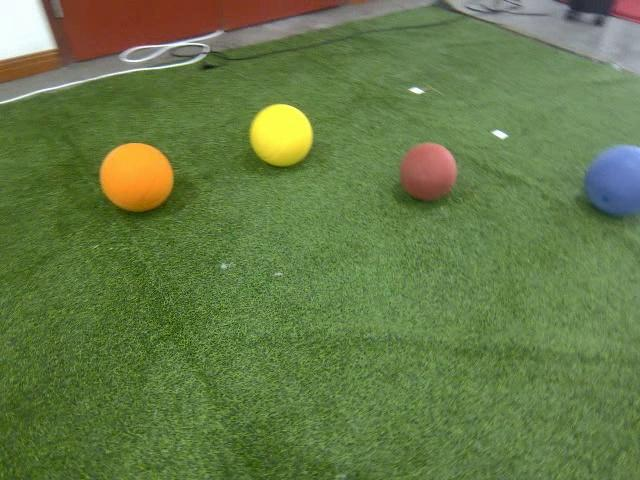blue_ball: (584, 142, 640, 216)
orange_ball: (99, 143, 173, 213)
red_ball: (397, 143, 459, 200)
yellow_ball: (249, 102, 315, 170)
